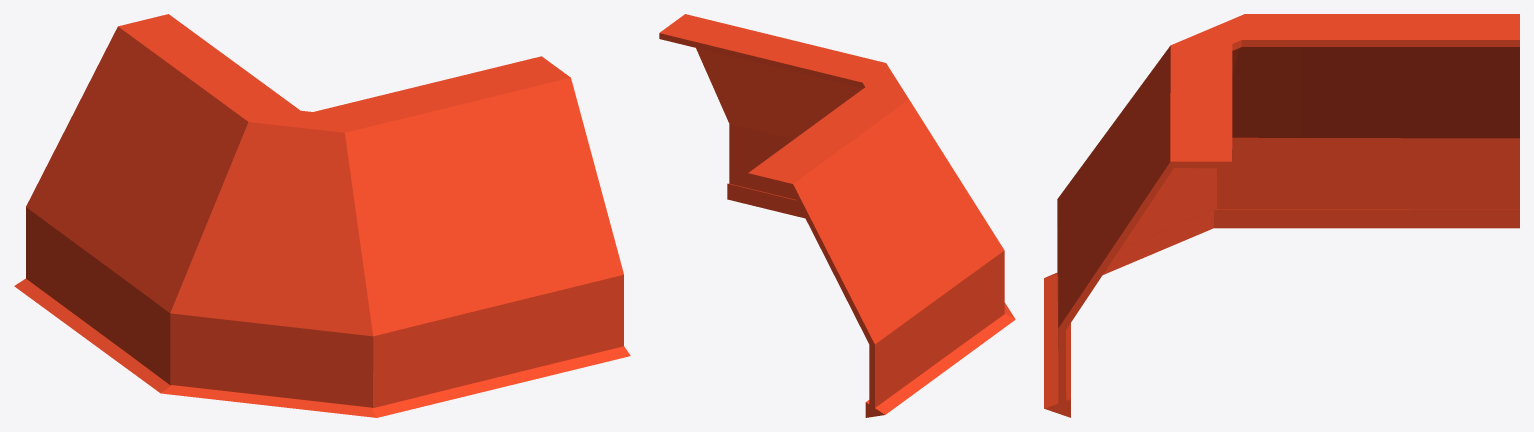
Rendered from SM_Awning_A_Corner_City.fbx.
3 renders of one model, left to right at view 1: azimuth 30°, elevation 25°; view 2: azimuth 150°, elevation 25°; view 3: azimuth 270°, elevation 25°, orthographic. The views are drawn at different scales.
Parts seen in each view (by area): view 1: SM_Awning_A_Corner_City; view 2: SM_Awning_A_Corner_City; view 3: SM_Awning_A_Corner_City.
Part boxes in pixels (x1,y1,x2,y2): SM_Awning_A_Corner_City: [14, 14, 630, 417]; SM_Awning_A_Corner_City: [659, 14, 1015, 417]; SM_Awning_A_Corner_City: [1044, 14, 1519, 417].
Bounding box in the file's own units: 1.65 × 0.9828 × 1.65.
